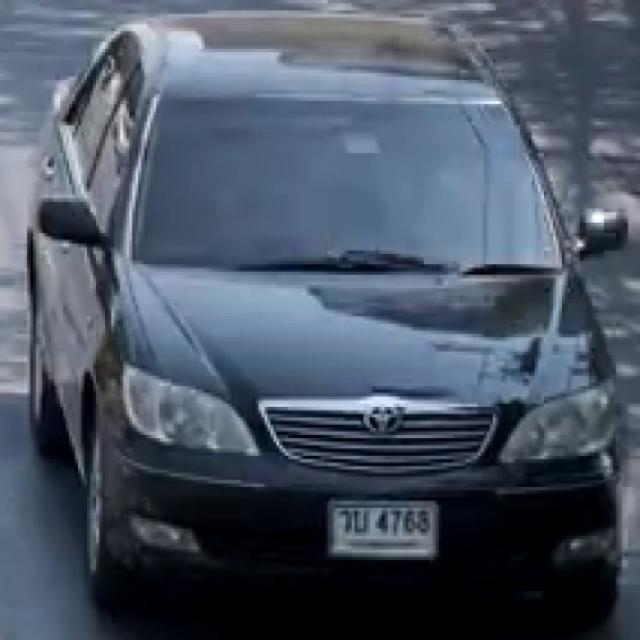plate: (328, 496, 442, 558)
